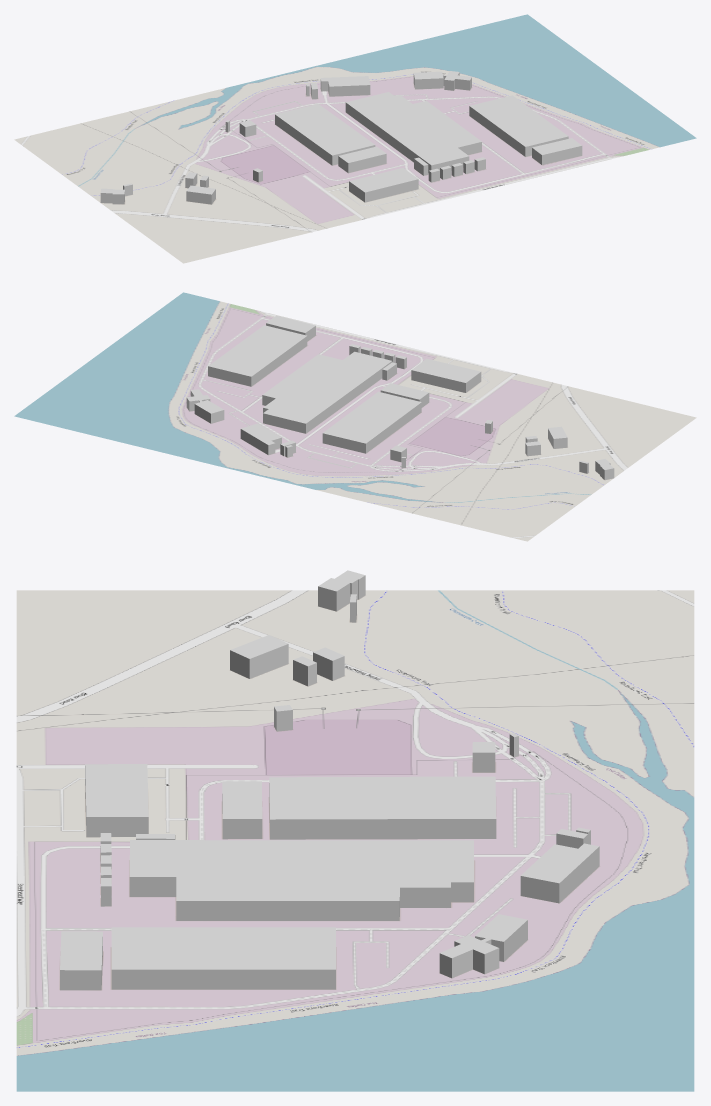
Rendered from google-datacenter.glb.
The picture shows the model from 3 angles, top to bottom: view 1: azimuth 30°, elevation 25°; view 2: azimuth 150°, elevation 25°; view 3: azimuth 270°, elevation 25°; orthographic projection. The views are drawn at different scales.
Visible parts, largest first — view 1: EXPORT_OSM_MAPNIK_WM, 593103300, 231769629, 231769631, 231769627, 1470107270, 593103301, 231769632, 231769630, 1065217857; view 2: EXPORT_OSM_MAPNIK_WM, 593103300, 231769629, 231769631, 231769627, 593103301, 1470107270, 231769632, 231769630; view 3: EXPORT_OSM_MAPNIK_WM, 593103300, 231769629, 231769631, 231769627, 1470107270, 593103301, 231769632, 231769630, 1065217857, 1065217855, 1065217859.
Part boxes in pixels (box(x1,y1,x2,y2)): EXPORT_OSM_MAPNIK_WM: box(14, 14, 696, 263); 593103300: box(345, 92, 481, 172); 231769629: box(275, 104, 375, 165); 231769631: box(469, 95, 568, 156); 231769627: box(349, 168, 418, 202); 1470107270: box(413, 71, 471, 90); 593103301: box(320, 76, 370, 96); 231769632: box(532, 138, 582, 164); 231769630: box(338, 146, 386, 173); 1065217857: box(186, 185, 215, 204); EXPORT_OSM_MAPNIK_WM: box(14, 292, 696, 541); 593103300: box(262, 351, 392, 433); 231769629: box(322, 391, 421, 453); 231769631: box(208, 325, 307, 386); 231769627: box(411, 358, 481, 392); 593103301: box(240, 423, 281, 455); 1470107270: box(186, 389, 224, 423); 231769632: box(266, 315, 315, 341); 231769630: box(380, 383, 429, 407); EXPORT_OSM_MAPNIK_WM: box(16, 590, 694, 1091); 593103300: box(129, 840, 473, 920); 231769629: box(269, 776, 496, 839); 231769631: box(111, 927, 335, 989); 231769627: box(85, 764, 148, 837); 1470107270: box(439, 914, 527, 978); 593103301: box(520, 843, 599, 903); 231769632: box(60, 931, 102, 990); 231769630: box(222, 781, 262, 839); 1065217857: box(230, 635, 288, 678); 1065217855: box(318, 570, 365, 611); 1065217859: box(313, 647, 344, 680).
Bounding box in the file's own units: 1070 × 20 × 611.
Materials: 1 (1 with a texture image).
